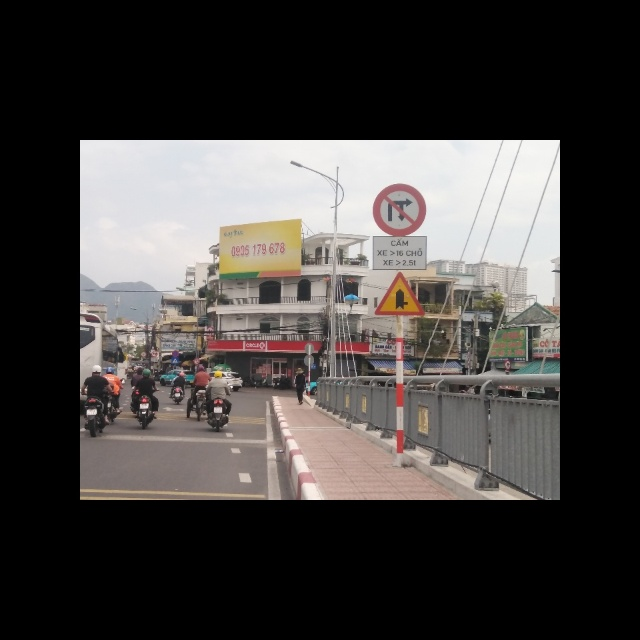Cấm quay đầu và rẽ phải: (372, 182, 427, 237)
Giao nhau với đường không ưu tiên: (373, 271, 424, 316)
